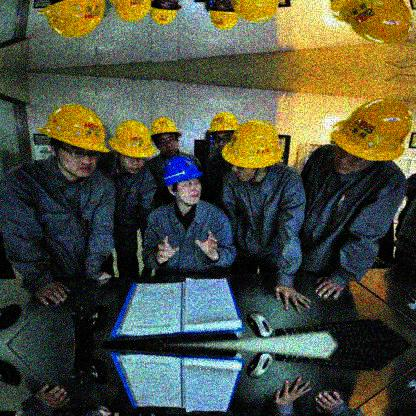helmet: (330, 96, 416, 175), (36, 104, 109, 177), (221, 120, 284, 183), (107, 119, 157, 173), (161, 155, 204, 206), (207, 112, 241, 152), (148, 118, 183, 153), (209, 1, 239, 30), (148, 1, 181, 24)
